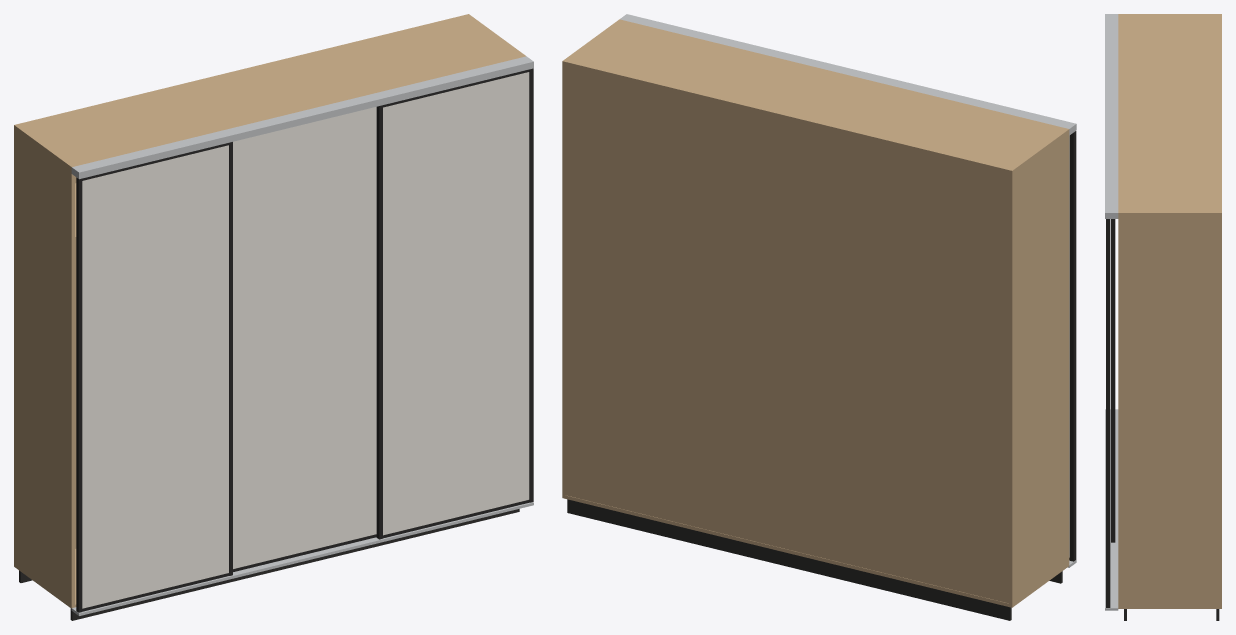
The model's file is 12_szafa_przesuwna_250_3d.glb.
3 views of the same model, side by side, from view 1: azimuth 30°, elevation 25°; view 2: azimuth 150°, elevation 25°; view 3: azimuth 270°, elevation 25° (orthographic). The views are drawn at different scales.
Parts seen in each view (by area): view 1: Front_panel_1, Front_panel_3, Front_panel_2, Korpus, Uchwyty, Prowadnice, Cokol; view 2: Korpus, Cokol, Prowadnice, Uchwyty; view 3: Korpus, Prowadnice, Uchwyty.
Part boxes in pixels (x1,y1,x2,y2): Front_panel_1: (82, 145, 228, 608); Front_panel_3: (383, 72, 529, 535); Front_panel_2: (233, 107, 376, 568); Korpus: (14, 14, 525, 608); Uchwyty: (76, 68, 533, 612); Prowadnice: (71, 56, 533, 615); Cokol: (19, 509, 519, 620); Korpus: (562, 19, 1069, 607); Cokol: (567, 499, 1062, 620); Prowadnice: (620, 14, 1076, 567); Uchwyty: (1069, 131, 1076, 561); Korpus: (1118, 14, 1221, 608); Prowadnice: (1105, 14, 1118, 610); Uchwyty: (1106, 219, 1115, 607).
Size of the model in its own units: 2.5 by 2.4 by 0.62.
